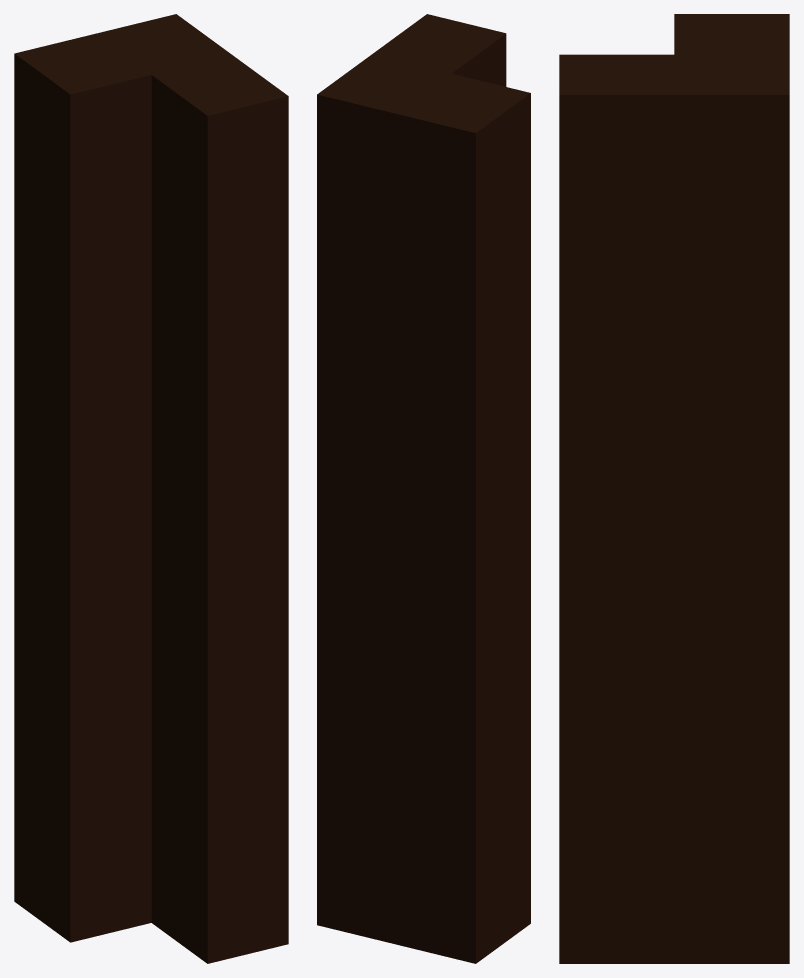
The model's file is WallCorner.FBX.
3 renders of one model, left to right at view 1: azimuth 30°, elevation 25°; view 2: azimuth 150°, elevation 25°; view 3: azimuth 270°, elevation 25°, orthographic. The views are drawn at different scales.
Visible parts, largest first — view 1: Corner; view 2: Corner; view 3: Corner.
Part boxes in pixels (x1=…): Corner: x1=14, y1=14, x2=288, y2=963; Corner: x1=317, y1=14, x2=530, y2=963; Corner: x1=559, y1=14, x2=789, y2=963.
Bounding box in the file's own units: 0.5 × 2.5 × 0.6.
